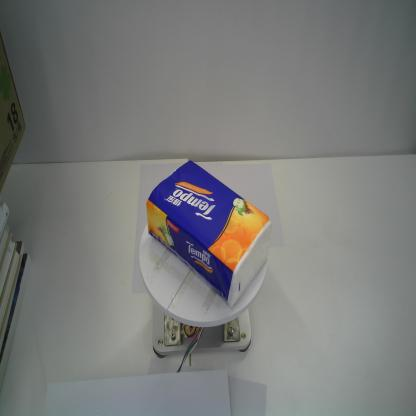Tissue: (146, 158, 271, 309)
